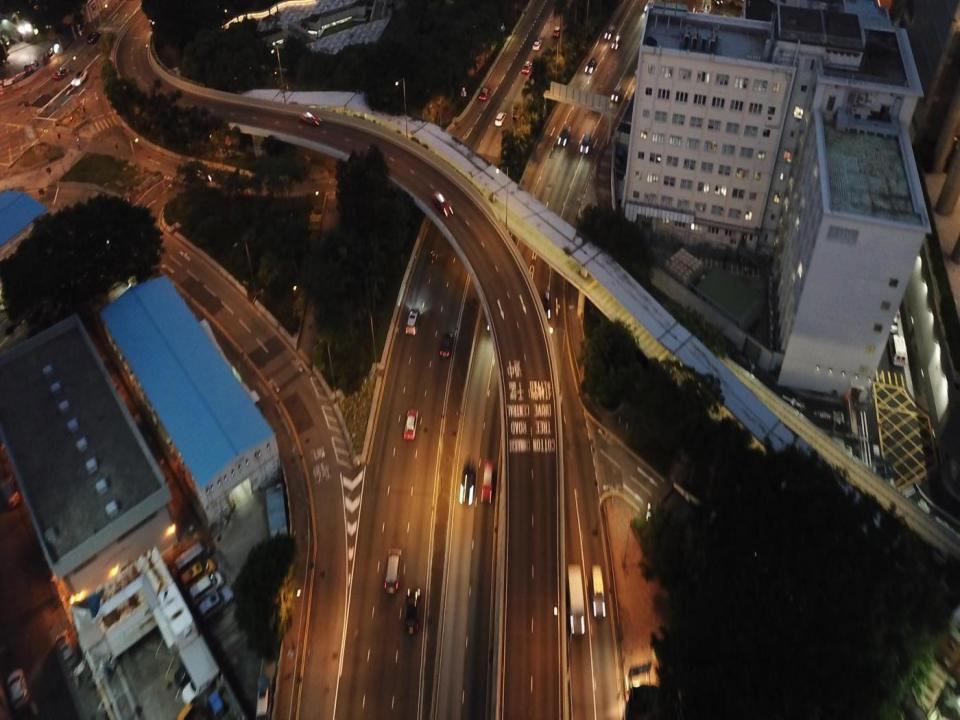bus: (566, 563, 585, 634)
car: (182, 674, 216, 704), (8, 669, 29, 709), (404, 588, 422, 633), (175, 657, 204, 684), (57, 630, 78, 667), (480, 459, 496, 504), (460, 463, 474, 507), (431, 190, 453, 216), (403, 410, 420, 441), (485, 303, 502, 332), (539, 287, 552, 322), (439, 329, 453, 358), (70, 68, 88, 86), (302, 111, 321, 127), (558, 125, 570, 146), (584, 58, 597, 74), (86, 31, 102, 43), (604, 25, 616, 40), (479, 87, 492, 100), (54, 68, 67, 80), (644, 0, 655, 12), (532, 40, 543, 51), (522, 61, 532, 73), (612, 35, 620, 49)
van: (198, 588, 233, 620), (188, 572, 223, 599), (176, 541, 211, 568), (180, 559, 215, 584), (593, 568, 608, 620), (384, 551, 402, 593), (405, 309, 420, 335), (580, 132, 591, 152), (495, 111, 507, 127), (610, 85, 622, 101), (553, 26, 561, 36)
